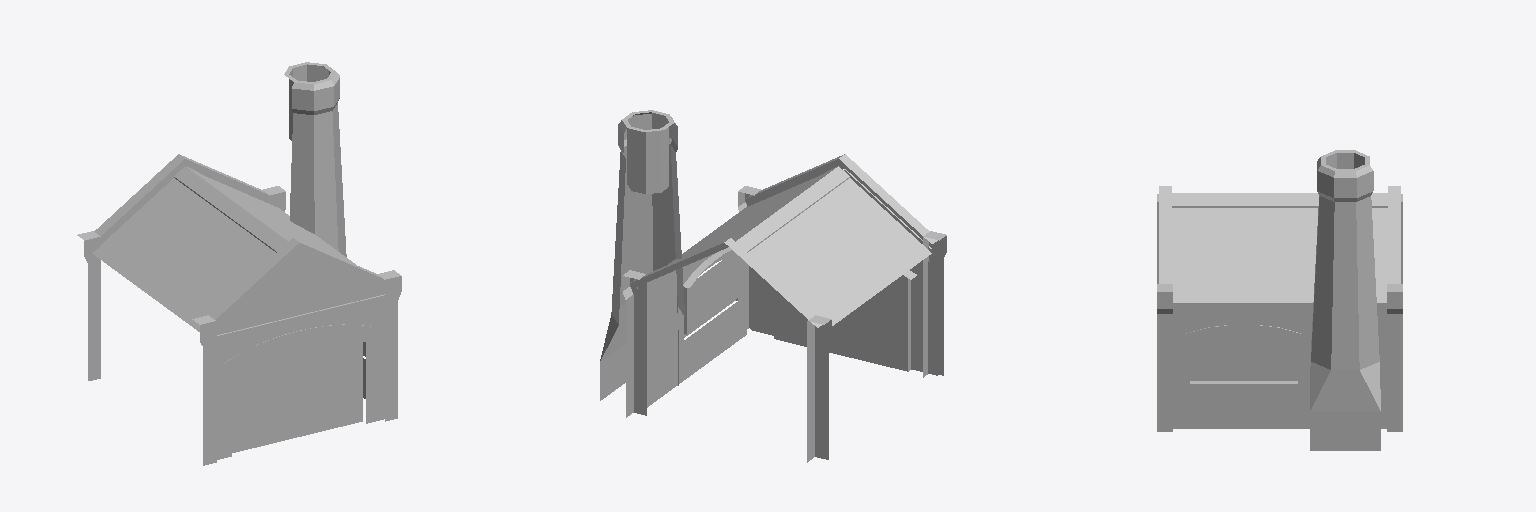
Rendered from tier1.v2.obj.
The picture shows the model from 3 angles: view 1: azimuth 30°, elevation 25°; view 2: azimuth 150°, elevation 25°; view 3: azimuth 270°, elevation 25°; orthographic projection.
Parts seen in each view (by area): view 1: facade, building1, chimney, pillar, doorArch; view 2: building1, facade, chimney, pillar; view 3: building1, chimney, pillar, facade, windowArch.
Boxes of the visible parts, x1=… form: facade: x1=94, y1=154, x2=384, y2=459; building1: x1=92, y1=166, x2=365, y2=398; chimney: x1=284, y1=62, x2=346, y2=256; pillar: x1=77, y1=186, x2=401, y2=465; doorArch: x1=225, y1=324, x2=371, y2=375; building1: x1=637, y1=166, x2=931, y2=407; facade: x1=631, y1=154, x2=938, y2=375; chimney: x1=600, y1=110, x2=684, y2=400; pillar: x1=622, y1=186, x2=946, y2=462; building1: x1=1172, y1=193, x2=1387, y2=428; chimney: x1=1310, y1=150, x2=1380, y2=450; pillar: x1=1157, y1=194, x2=1402, y2=431; facade: x1=1159, y1=186, x2=1400, y2=283; windowArch: x1=1185, y1=325, x2=1301, y2=343.
Bounding box in the file's own units: 7.57 × 8.44 × 6.85.